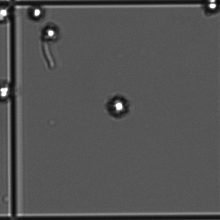Living Cell: (104, 92, 132, 121), (1, 1, 24, 28), (38, 21, 62, 45), (1, 77, 21, 105), (25, 1, 49, 24), (196, 1, 220, 24)
